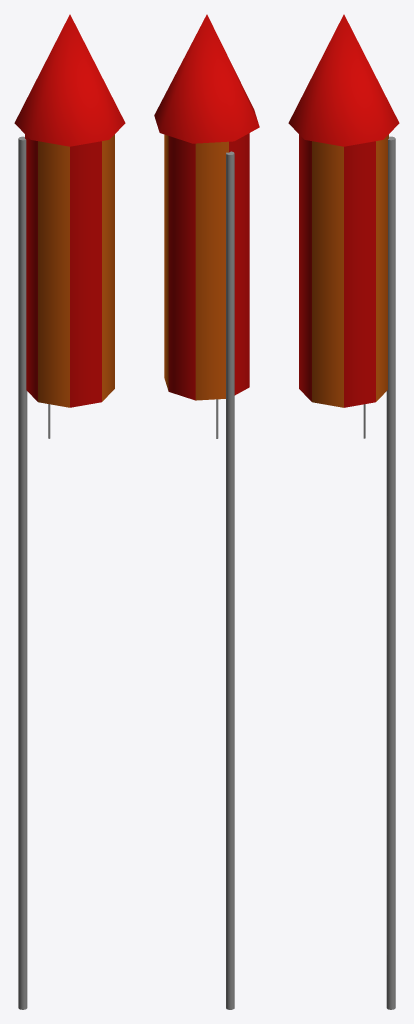
File: new_year_fireworks_2024.obj
The picture shows the model from 3 angles, left to right: view 1: azimuth 90°, elevation 25°; view 2: azimuth 210°, elevation 25°; view 3: azimuth 270°, elevation 25°; orthographic projection.
Parts seen in each view (by area): view 1: 1, 0, 2; view 2: 1, 0, 2; view 3: 1, 0, 2.
Boxes of the visible parts, left/top/right/bottom form: 1: left=14, top=14, right=125, bottom=407; 0: left=38, top=134, right=114, bottom=407; 2: left=18, top=136, right=50, bottom=1009; 1: left=154, top=14, right=259, bottom=400; 0: left=164, top=134, right=228, bottom=400; 2: left=216, top=151, right=234, bottom=1009; 1: left=288, top=14, right=399, bottom=407; 0: left=312, top=134, right=388, bottom=407; 2: left=363, top=136, right=395, bottom=1009.
Bounding box in the file's own units: 0.1 × 0.9861 × 0.1.
